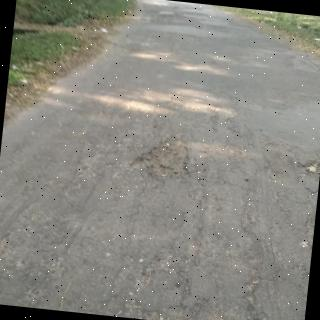pothole: (131, 131, 191, 179)
